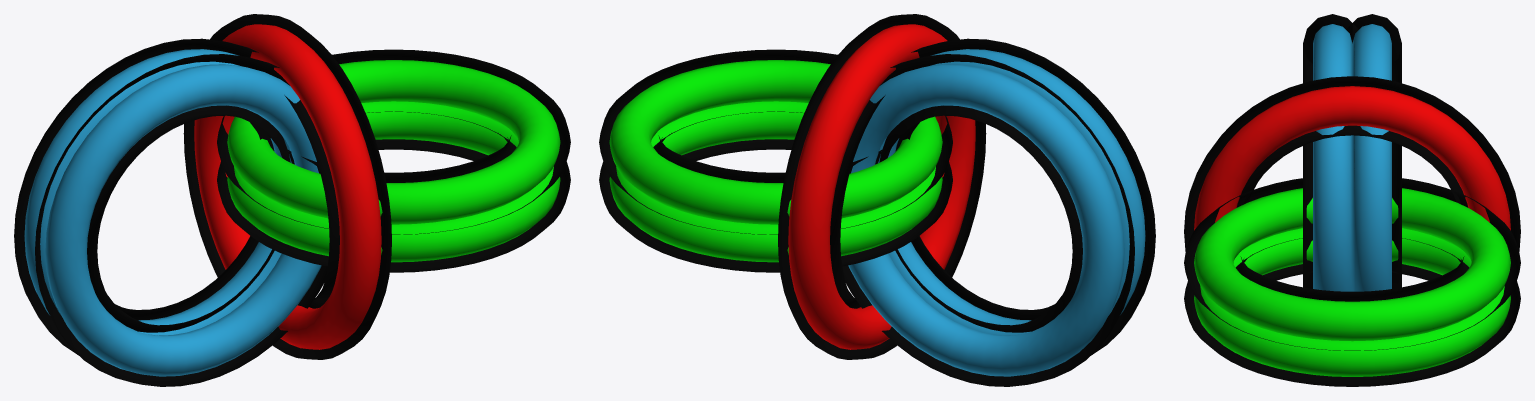
Rendered from 4_in_2_orbital_step_03.glb.
The picture shows the model from 3 angles, left to right: view 1: azimuth 30°, elevation 25°; view 2: azimuth 150°, elevation 25°; view 3: azimuth 270°, elevation 25°; orthographic projection. The views are drawn at different scales.
Visible parts, largest first — view 1: Torus.001, Torus.004, Torus.003, Torus.002, Torus; view 2: Torus, Torus.004, Torus.003, Torus.002, Torus.001; view 3: Torus.003, Torus.004, Torus.002, Torus, Torus.001.
Part boxes in pixels (<box>): Torus.001: <box>35,54,327,386</box>; Torus.004: <box>183,14,391,359</box>; Torus.003: <box>217,49,570,234</box>; Torus.002: <box>217,101,570,272</box>; Torus: <box>14,38,291,354</box>; Torus: <box>842,54,1134,386</box>; Torus.004: <box>778,14,986,359</box>; Torus.003: <box>599,49,952,234</box>; Torus.002: <box>599,101,952,272</box>; Torus.001: <box>878,38,1155,354</box>; Torus.003: <box>1184,178,1520,350</box>; Torus.004: <box>1184,76,1520,251</box>; Torus.002: <box>1184,228,1520,386</box>; Torus: <box>1346,14,1401,291</box>; Torus.001: <box>1303,14,1358,291</box>.
Bounding box in the file's own units: 5.75 × 3.4 × 3.4.
